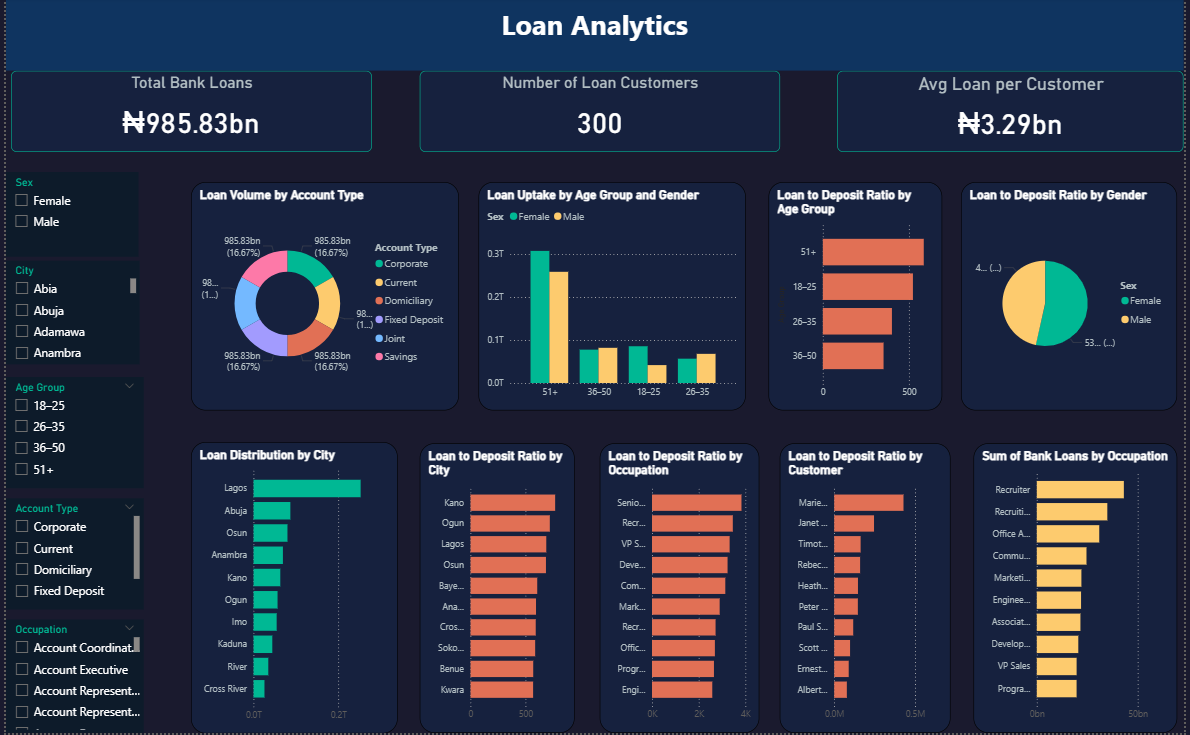

What the dashboard file says about the page in this screenshot:
{"tool":"powerbi","page":{"name":"Loan Analytics","canvas":[1600,1000],"ordinal":1},"visuals":[{"type":"card","title":"Total Bank Loans","fields":{"Values":["Loan.Total Loan Value"]},"box":[6.4,100,490,110.6],"z":0},{"type":"card","title":"Number of Loan Customers","fields":{"Values":["Loan.Loan Customers"]},"box":[561.7,100,489.4,110.6],"z":1000},{"type":"card","title":"Avg Loan per Customer","fields":{"Values":["Loan.Average Loan per Customer"]},"box":[1129.8,100,470.2,110.6],"z":2000},{"type":"barChart","title":"Loan Distribution by City","fields":{"Category":["Customer.City"],"Y":["Sum(Loan.Bank Loans)"]},"box":[251.1,604.3,280.9,395.7],"z":3000},{"type":"donutChart","title":"Loan Volume by Account Type","fields":{"Category":["Accounts.Account Type"],"Y":["Sum(Loan.Bank Loans)"]},"box":[251.1,251.1,363.8,310.6],"z":4000},{"type":"slicer","fields":{"Values":["Customer.City"]},"box":[0,358.4,181.7,141],"z":5000},{"type":"slicer","fields":{"Values":["Accounts.Account Type"]},"box":[0,681,186.8,151.2],"z":6000},{"type":"clusteredColumnChart","title":"Loan Uptake by Age Group and Gender","fields":{"Y":["Sum(Loan.Bank Loans)"],"Series":["Customer.Sex"],"Category":["Customer.AGE RANGE"]},"box":[642.6,251.1,363,310.6],"z":7000},{"type":"barChart","fields":{"Y":["Accounts.Loan to Deposit Ratio"],"Category":["Customer.City"]},"box":[561.7,606.4,210.6,393.6],"z":8000},{"type":"barChart","fields":{"Y":["Accounts.Loan to Deposit Ratio"],"Category":["Customer.Occupation"]},"box":[806.4,606.4,217,393.6],"z":9000},{"type":"barChart","title":"Loan to Deposit Ratio by Customer","fields":{"Y":["Accounts.Loan to Deposit Ratio"],"Category":["Customer.Full name"]},"box":[1051.1,606.4,231.9,393.6],"z":10000},{"type":"barChart","fields":{"Category":["Customer.Occupation"],"Y":["Sum(Loan.Bank Loans)"]},"box":[1314.9,606.4,276.6,393.6],"z":11000},{"type":"pieChart","title":"Loan to Deposit Ratio by Gender","fields":{"Category":["Customer.Sex"],"Y":["Accounts.Loan to Deposit Ratio"]},"box":[1297.9,251.1,293.6,310.6],"z":12000},{"type":"clusteredBarChart","fields":{"Y":["Accounts.Loan to Deposit Ratio"],"Category":["Customer.Age Group"]},"box":[1036.2,251.1,236.2,310.6],"z":13000},{"type":"slicer","fields":{"Values":["Customer.Age Group"]},"box":[0,516.3,186.8,151.2],"z":14000},{"type":"slicer","fields":{"Values":["Customer.Sex"]},"box":[0,237.8,180,115.5],"z":15000},{"type":"slicer","fields":{"Values":["Customer.Occupation"]},"box":[0,845.8,186.8,154.6],"z":16000},{"type":"textbox","box":[0,0,1600,100],"z":17000},{"type":"pageNavigator","box":[1056.4,25.5,543.5,49.3],"z":17001}]}

Visuals, with their boxes in screenshot pixels (x1, y1, x2, y2), scaled from the page's 1600x1000 canvas onto the 1190x735 screenshot:
"Total Bank Loans" card: (5,74,369,155)
"Number of Loan Customers" card: (418,74,782,155)
"Avg Loan per Customer" card: (840,74,1189,155)
"Loan Distribution by City" barChart: (187,444,396,734)
"Loan Volume by Account Type" donutChart: (187,185,457,413)
slicer - Customer.City: (0,263,135,367)
slicer - Accounts.Account Type: (0,501,139,612)
"Loan Uptake by Age Group and Gender" clusteredColumnChart: (478,185,748,413)
barChart - Accounts.Loan to Deposit Ratio x Customer.City: (418,446,574,734)
barChart - Accounts.Loan to Deposit Ratio x Customer.Occupation: (600,446,761,734)
"Loan to Deposit Ratio by Customer" barChart: (782,446,954,734)
barChart - Customer.Occupation x Sum(Loan.Bank Loans): (978,446,1184,734)
"Loan to Deposit Ratio by Gender" pieChart: (965,185,1184,413)
clusteredBarChart - Accounts.Loan to Deposit Ratio x Customer.Age Group: (771,185,946,413)
slicer - Customer.Age Group: (0,379,139,491)
slicer - Customer.Sex: (0,175,134,260)
slicer - Customer.Occupation: (0,622,139,734)
textbox: (0,0,1189,74)
pageNavigator: (786,19,1189,55)
